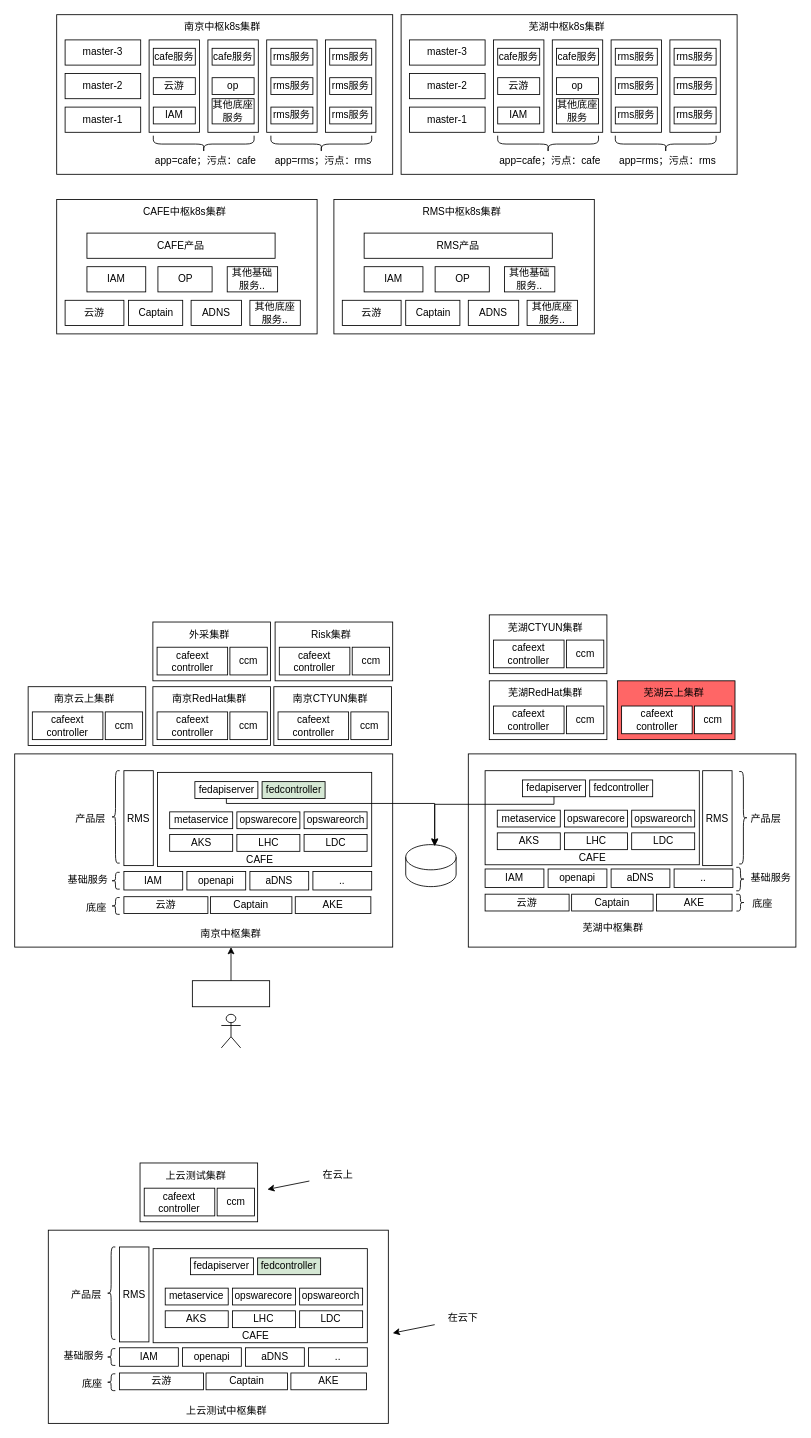
Some shapes in this 811 by 1438 pixel diagram are drawn without their labels. Here are the shapes that lost their labels. From the top down, the centre of each, then its label:
At point (430, 865): "DB".
At point (231, 993): "NG".
At point (230, 1030): "Actor".
